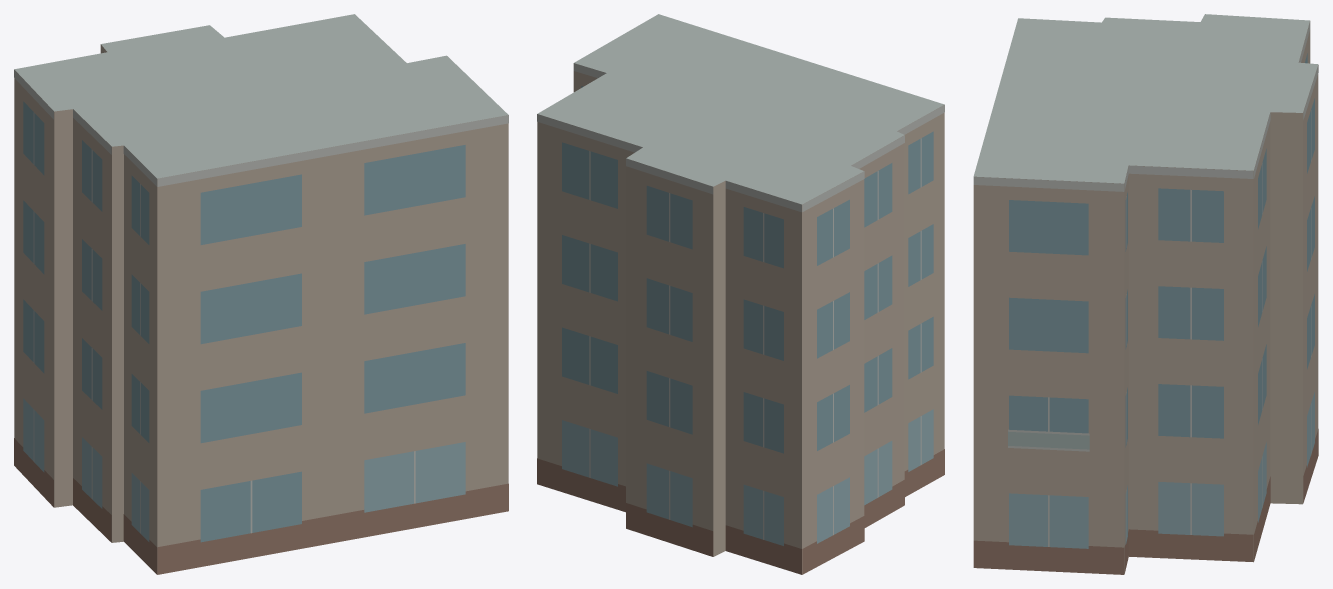
Rendered from survey-upis-33034204.glb.
3 renders of one model, left to right at view 1: azimuth 30°, elevation 25°; view 2: azimuth 150°, elevation 25°; view 3: azimuth 270°, elevation 25°, orthographic. The views are drawn at different scales.
Visible parts, largest first — view 1: survey-upis-33034204.tmp; view 2: survey-upis-33034204.tmp; view 3: survey-upis-33034204.tmp.
Part boxes in pixels (x1,y1,x2,y2): survey-upis-33034204.tmp: (14,14,508,574); survey-upis-33034204.tmp: (537,14,944,574); survey-upis-33034204.tmp: (973,14,1318,574).
Size of the model in its own units: 10.7 by 11.5 by 9.2.
